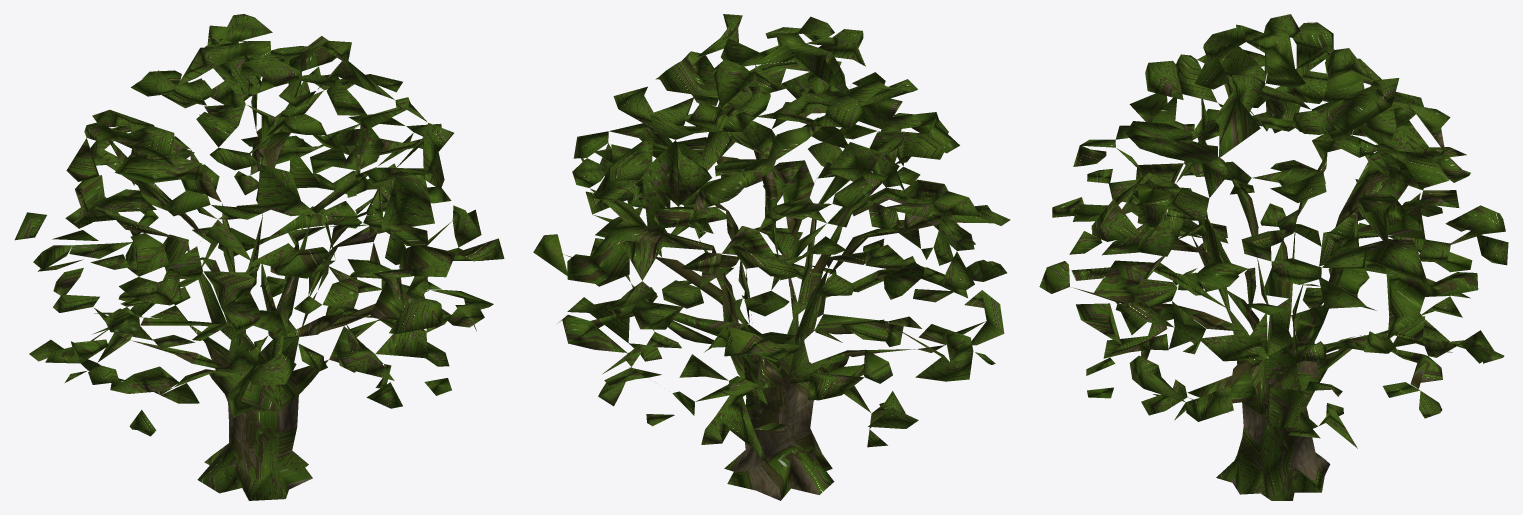
The model's file is oak-lo.glb.
3 views of the same model, side by side, from view 1: azimuth 30°, elevation 25°; view 2: azimuth 150°, elevation 25°; view 3: azimuth 270°, elevation 25° (orthographic).
Bounding box in the file's own units: 5.39 × 5.53 × 5.27.
Materials: 1 (1 with a texture image).
